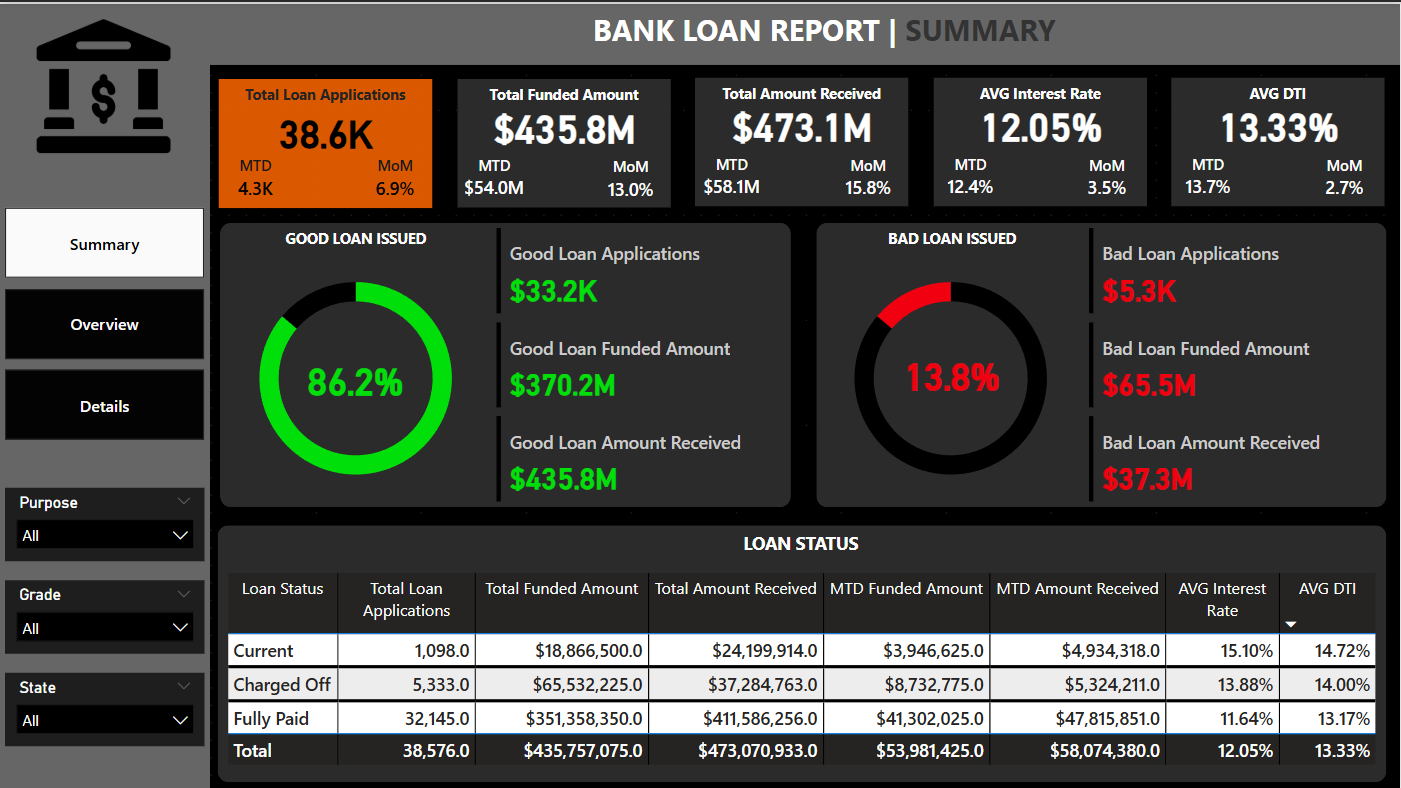

The page's visual inventory and layout, read from the dashboard file:
{"tool":"powerbi","page":{"name":"Summary","canvas":[1280,720],"ordinal":0},"visuals":[{"type":"shape","box":[0,0,1280,55.7],"z":0},{"type":"shape","box":[635.9,67.5,195,117.5],"z":0,"group":"g3"},{"type":"shape","box":[853.7,67.5,195,117.5],"z":0,"group":"g4"},{"type":"shape","box":[1071.5,67.5,195,117.5],"z":0,"group":"g5"},{"type":"shape","box":[200.8,68.2,195.3,118],"z":0,"group":"g2"},{"type":"shape","box":[418.7,68.5,195,117.5],"z":0,"group":"g1"},{"type":"shape","box":[0,54.5,192,666.1],"z":1000},{"type":"card","title":"MTD","fields":{"Values":["Measures (2).MTD Amount Received"]},"box":[636.5,137.5,64.7,46.3],"z":1000,"group":"g3"},{"type":"card","title":"MTD","fields":{"Values":["Measures (2).MTD Interest Rate"]},"box":[854.3,137.5,64.7,46.3],"z":1000,"group":"g4"},{"type":"card","title":"MTD","fields":{"Values":["Measures (2).MTD AVG DTI"]},"box":[1072.1,137.5,64.7,46.3],"z":1000,"group":"g5"},{"type":"card","title":"MTD","fields":{"Values":["Measures (2).MTD Loan Applications"]},"box":[202,138.2,64.7,46.7],"z":1000,"group":"g2"},{"type":"card","title":"MTD","fields":{"Values":["Measures (2).MTD Funded Amount"]},"box":[419.3,138.5,64.7,46.3],"z":1000,"group":"g1"},{"type":"textbox","box":[537.5,0,447.5,55],"z":2000},{"type":"card","fields":{"Values":["Measures (2).Total Amount Received"]},"box":[635.4,88.3,196.3,44.7],"z":2000,"group":"g3"},{"type":"card","fields":{"Values":["Measures (2).AVG Interest Rate"]},"box":[853.2,88.3,196.3,44.7],"z":2000,"group":"g4"},{"type":"card","fields":{"Values":["Measures (2).AVG DTI"]},"box":[1071,88.3,196.3,44.7],"z":2000,"group":"g5"},{"type":"card","fields":{"Values":["Measures (2).Total Funded Amount"]},"box":[418.2,89.3,196.3,44.7],"z":2000,"group":"g1"},{"type":"card","fields":{"Values":["Measures (2).Total Loan Applications"]},"box":[200.6,92.2,196,48.7],"z":2000,"group":"g2"},{"type":"textbox","box":[635.4,67.8,194.7,27.4],"z":3000,"group":"g3"},{"type":"textbox","box":[853.2,67.8,194.7,27.4],"z":3000,"group":"g4"},{"type":"textbox","box":[1071,67.8,194.7,27.4],"z":3000,"group":"g5"},{"type":"textbox","box":[199.3,68.2,196.7,27.3],"z":3000,"group":"g2"},{"type":"textbox","box":[418.2,68.8,194.7,27.4],"z":3000,"group":"g1"},{"type":"shape","box":[201.2,200,522,260],"z":3000},{"type":"card","title":"MoM","fields":{"Values":["Measures (2).MOM Amount Received"]},"box":[760.7,138,65.3,46.3],"z":4000,"group":"g3"},{"type":"card","title":"MoM","fields":{"Values":["Measures (2).MOM AVG Int Rate"]},"box":[978.5,138,65.3,46.3],"z":4000,"group":"g4"},{"type":"card","title":"MoM","fields":{"Values":["Measures (2).MOM AVG DTI"]},"box":[1196.3,138,65.3,46.3],"z":4000,"group":"g5"},{"type":"card","title":"MoM","fields":{"Values":["Measures (2).MOM Loan Application"]},"box":[330,138.2,64,46.7],"z":4000,"group":"g2"},{"type":"card","title":"MoM","fields":{"Values":["Measures (2).MOM Funded Amount"]},"box":[543.5,139,65.3,46.3],"z":4000,"group":"g1"},{"type":"donutChart","fields":{"Category":["bank_loan_data.Good vs Bad Loans"],"Y":["Measures (2).Total Loan Applications"]},"box":[202.3,227.7,246.2,230],"z":4000},{"type":"card","fields":{"Values":["Measures (2).Good Loan %"]},"box":[266.2,321.2,117.5,43.8],"z":5000},{"type":"textbox","box":[202.3,200,246.2,27.7],"z":6000},{"type":"group","id":"g1","title":"Group 1","box":[418.2,68.5,195.6,117.8],"z":7000},{"type":"group","id":"g2","title":"Group 2","box":[199.3,68.2,197.3,118],"z":8000},{"type":"group","id":"g3","title":"Group 1","box":[635.4,67.5,196.2,118.8],"z":9000},{"type":"group","id":"g4","title":"Group 1","box":[853.2,67.5,196.2,118.8],"z":10000},{"type":"group","id":"g5","title":"Group 1","box":[1071,67.5,196.2,118.8],"z":11000},{"type":"shape","box":[745.7,200,521.4,260],"z":12000},{"type":"cardVisual","fields":{"Data":["Measures (2).Good Loan Applications","Measures (2).Good Loan Funded Amount","Measures (2).Good Loan Amount Received"]},"box":[448.8,200,275,260],"z":13000},{"type":"donutChart","fields":{"Category":["bank_loan_data.Good vs Bad Loans"],"Y":["Measures (2).Total Loan Applications"]},"box":[746.2,227.5,246.2,230],"z":14000},{"type":"textbox","box":[747.5,200,246.2,27.5],"z":15000},{"type":"card","fields":{"Values":["Measures (2).Bad Loan %"]},"box":[811.2,316.2,117.5,43.8],"z":16000},{"type":"cardVisual","fields":{"Data":["Measures (2).Bad Loan Applications","Measures (2).Bad Loan Funded Amount","Measures (2).Bad Loan Amount Received"]},"box":[991.2,200,275,260],"z":17000},{"type":"shape","box":[198.8,476.2,1068.8,235],"z":18000},{"type":"tableEx","fields":{"Values":["bank_loan_data.loan_status","Measures (2).Total Loan Applications","Measures (2).Total Funded Amount","Measures (2).Total Amount Received","Measures (2).MTD Funded Amount","Measures (2).MTD Amount Received","Measures (2).AVG Interest Rate","Measures (2).AVG DTI"]},"box":[202.5,515,1063.8,191.2],"z":19000},{"type":"textbox","box":[211.2,476.2,1041.2,38.8],"z":20000},{"type":"slicer","fields":{"Values":["bank_loan_data.address_state"]},"box":[5,611.2,182.5,67.5],"z":21000},{"type":"slicer","fields":{"Values":["bank_loan_data.grade"]},"box":[5,526.9,182.5,67.5],"z":22000},{"type":"slicer","fields":{"Values":["bank_loan_data.purpose"]},"box":[5,442.5,182.5,67.5],"z":23000},{"type":"image","box":[10.3,9.1,168,132.6],"z":24000},{"type":"pageNavigator","box":[4.6,186.3,182.9,214.9],"z":25000}]}

Visuals, with their boxes in screenshot pixels (x1, y1, x2, y2), scaled from the page's 1280x720 canvas onto the 1401x788 screenshot:
shape: (x1=0, y1=0, x2=1400, y2=61)
shape: (x1=696, y1=74, x2=909, y2=202)
shape: (x1=934, y1=74, x2=1148, y2=202)
shape: (x1=1173, y1=74, x2=1386, y2=202)
shape: (x1=220, y1=75, x2=434, y2=204)
shape: (x1=458, y1=75, x2=672, y2=204)
shape: (x1=0, y1=60, x2=210, y2=787)
"MTD" card: (x1=697, y1=150, x2=767, y2=201)
"MTD" card: (x1=935, y1=150, x2=1006, y2=201)
"MTD" card: (x1=1173, y1=150, x2=1244, y2=201)
"MTD" card: (x1=221, y1=151, x2=292, y2=202)
"MTD" card: (x1=459, y1=152, x2=530, y2=202)
textbox: (x1=588, y1=0, x2=1078, y2=60)
card - Measures (2).Total Amount Received: (x1=695, y1=97, x2=910, y2=146)
card - Measures (2).AVG Interest Rate: (x1=934, y1=97, x2=1149, y2=146)
card - Measures (2).AVG DTI: (x1=1172, y1=97, x2=1387, y2=146)
card - Measures (2).Total Funded Amount: (x1=458, y1=98, x2=673, y2=147)
card - Measures (2).Total Loan Applications: (x1=220, y1=101, x2=434, y2=154)
textbox: (x1=695, y1=74, x2=909, y2=104)
textbox: (x1=934, y1=74, x2=1147, y2=104)
textbox: (x1=1172, y1=74, x2=1385, y2=104)
textbox: (x1=218, y1=75, x2=433, y2=105)
textbox: (x1=458, y1=75, x2=671, y2=105)
shape: (x1=220, y1=219, x2=792, y2=503)
"MoM" card: (x1=833, y1=151, x2=904, y2=202)
"MoM" card: (x1=1071, y1=151, x2=1142, y2=202)
"MoM" card: (x1=1309, y1=151, x2=1381, y2=202)
"MoM" card: (x1=361, y1=151, x2=431, y2=202)
"MoM" card: (x1=595, y1=152, x2=666, y2=203)
donutChart - bank_loan_data.Good vs Bad Loans x Measures (2).Total Loan Applications: (x1=221, y1=249, x2=491, y2=501)
card - Measures (2).Good Loan %: (x1=291, y1=352, x2=420, y2=399)
textbox: (x1=221, y1=219, x2=491, y2=249)
"Group 1" group: (x1=458, y1=75, x2=672, y2=204)
"Group 2" group: (x1=218, y1=75, x2=434, y2=204)
"Group 1" group: (x1=695, y1=74, x2=910, y2=204)
"Group 1" group: (x1=934, y1=74, x2=1149, y2=204)
"Group 1" group: (x1=1172, y1=74, x2=1387, y2=204)
shape: (x1=816, y1=219, x2=1387, y2=503)
cardVisual - Measures (2).Good Loan Applications x Measures (2).Good Loan Funded Amount: (x1=491, y1=219, x2=792, y2=503)
donutChart - bank_loan_data.Good vs Bad Loans x Measures (2).Total Loan Applications: (x1=817, y1=249, x2=1086, y2=501)
textbox: (x1=818, y1=219, x2=1088, y2=249)
card - Measures (2).Bad Loan %: (x1=888, y1=346, x2=1016, y2=394)
cardVisual - Measures (2).Bad Loan Applications x Measures (2).Bad Loan Funded Amount: (x1=1085, y1=219, x2=1386, y2=503)
shape: (x1=218, y1=521, x2=1387, y2=778)
tableEx - bank_loan_data.loan_status x Measures (2).Total Loan Applications: (x1=222, y1=564, x2=1386, y2=773)
textbox: (x1=231, y1=521, x2=1371, y2=564)
slicer - bank_loan_data.address_state: (x1=5, y1=669, x2=205, y2=743)
slicer - bank_loan_data.grade: (x1=5, y1=577, x2=205, y2=651)
slicer - bank_loan_data.purpose: (x1=5, y1=484, x2=205, y2=558)
image: (x1=11, y1=10, x2=195, y2=155)
pageNavigator: (x1=5, y1=204, x2=205, y2=439)
